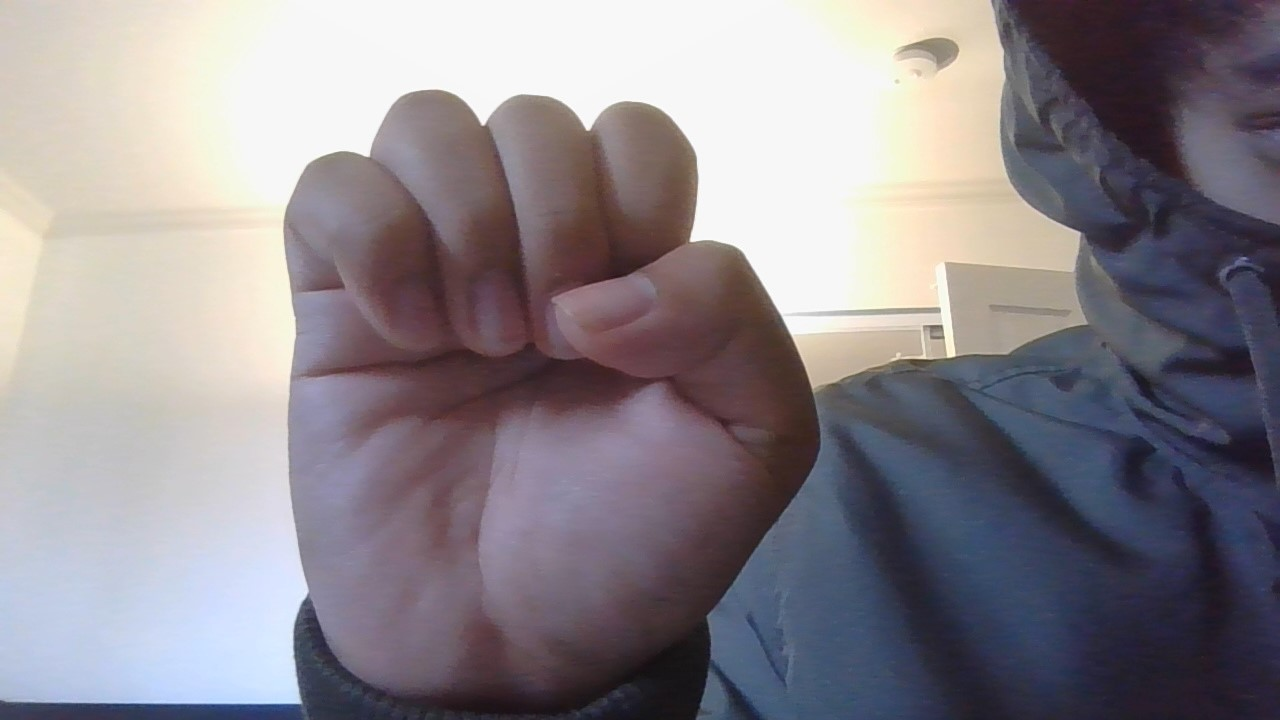e: (201, 71, 850, 720)
